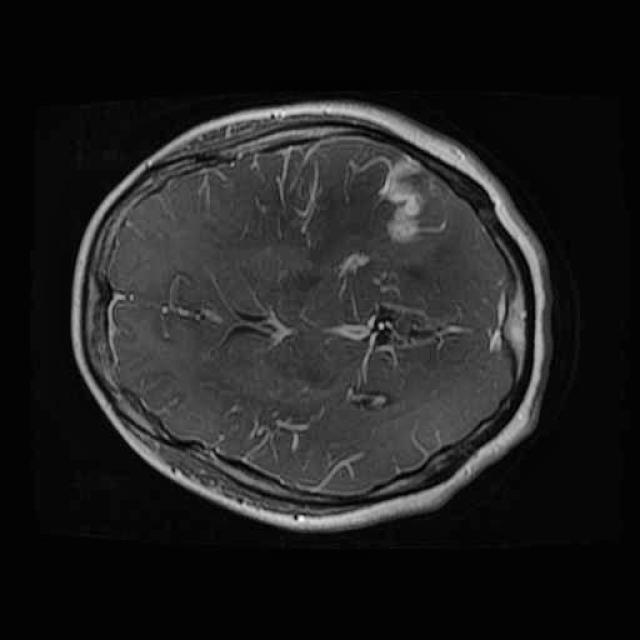Tumor: (366, 139, 438, 259)
